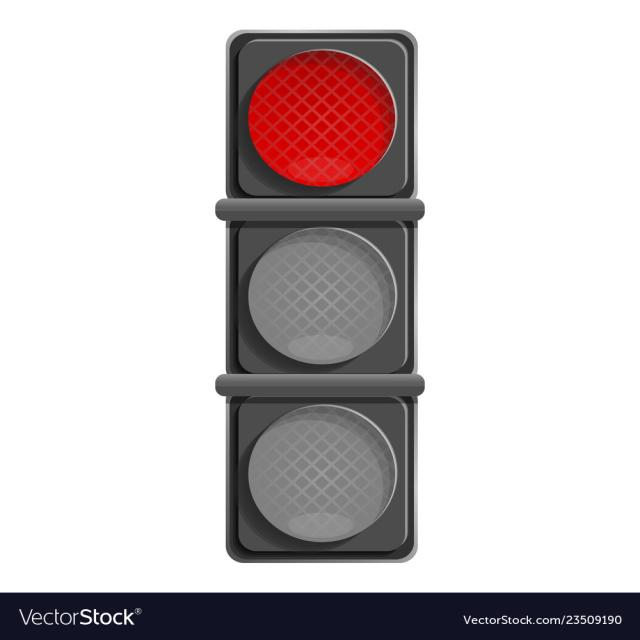red: (244, 48, 395, 192)
